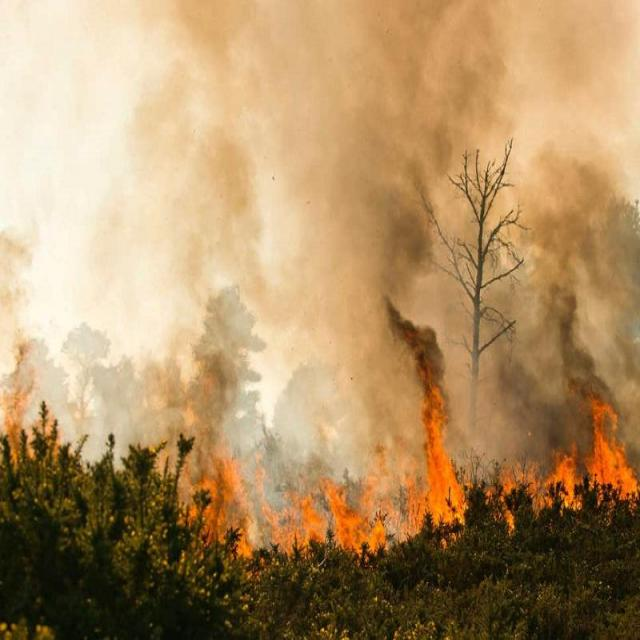fire: (308, 311, 635, 550)
